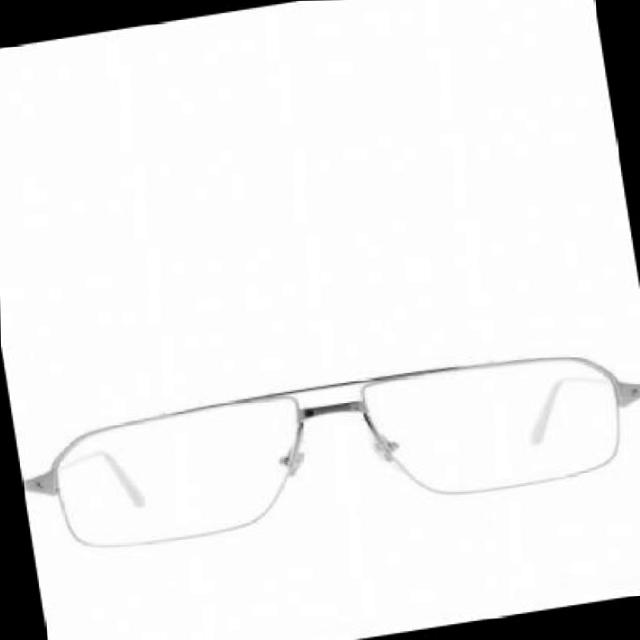glasses: (14, 338, 640, 564)
